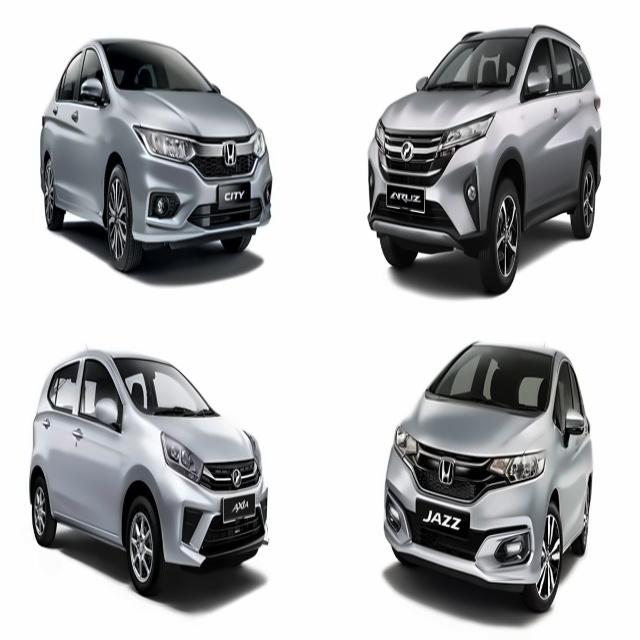Car hood: (393, 392, 548, 463), (109, 81, 260, 142), (377, 82, 517, 133), (142, 410, 263, 465)
Driver-s door - -F-R-: (61, 341, 131, 565), (62, 33, 107, 234)
Fender - -F-L-: (481, 90, 541, 242), (531, 415, 565, 543)
Fender - -F-R-: (113, 405, 163, 549), (95, 90, 140, 227)
Front bumper: (382, 455, 547, 593), (364, 136, 494, 252), (143, 455, 271, 572), (122, 153, 273, 250)
Headlight - -L-: (437, 111, 496, 158), (483, 453, 543, 486), (246, 123, 270, 161)
Headlight - -R-: (134, 125, 200, 167), (158, 430, 205, 487), (390, 429, 422, 469), (373, 117, 388, 154)
Passenger-s door - -F-L-: (518, 18, 571, 240), (541, 349, 594, 561)
Passenger-s door - -R-L-: (555, 13, 592, 238)
Passenger-s door - -R-R-: (38, 341, 80, 546), (48, 35, 84, 234)
Side bumper - -L-: (521, 186, 584, 245), (557, 514, 591, 566)
Side bumper - -R-: (46, 498, 132, 556), (51, 184, 109, 232)
Side mirror - -L-: (518, 71, 553, 110), (555, 408, 589, 441)
Side mirror - -R-: (91, 397, 129, 440), (77, 77, 112, 107)
